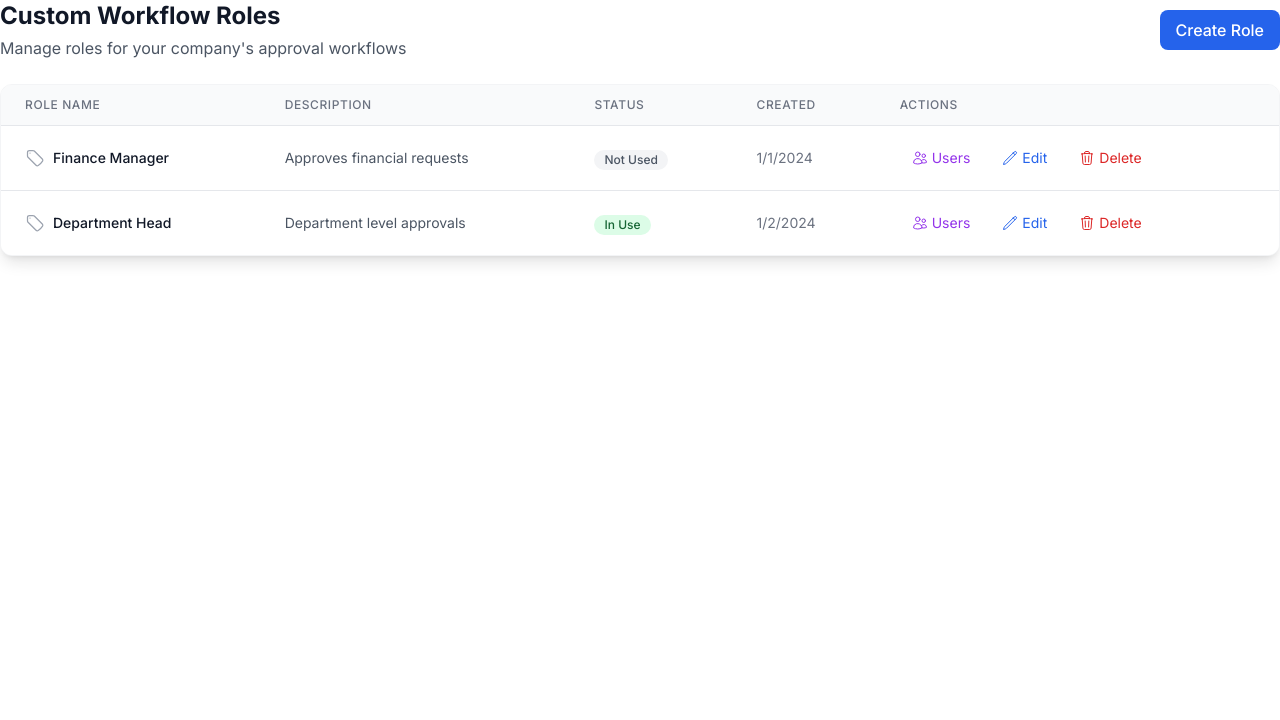
RoleManagement - Role Deletion with Protection › Confirmation Dialog › should close dialog when Cancel is clicked
Expected: the text "Finance Manager" is shown, [53,148,169,168]
Click the button "Delete" in the row of "Finance Manager" at (1110, 158), box [1067,142,1154,174]
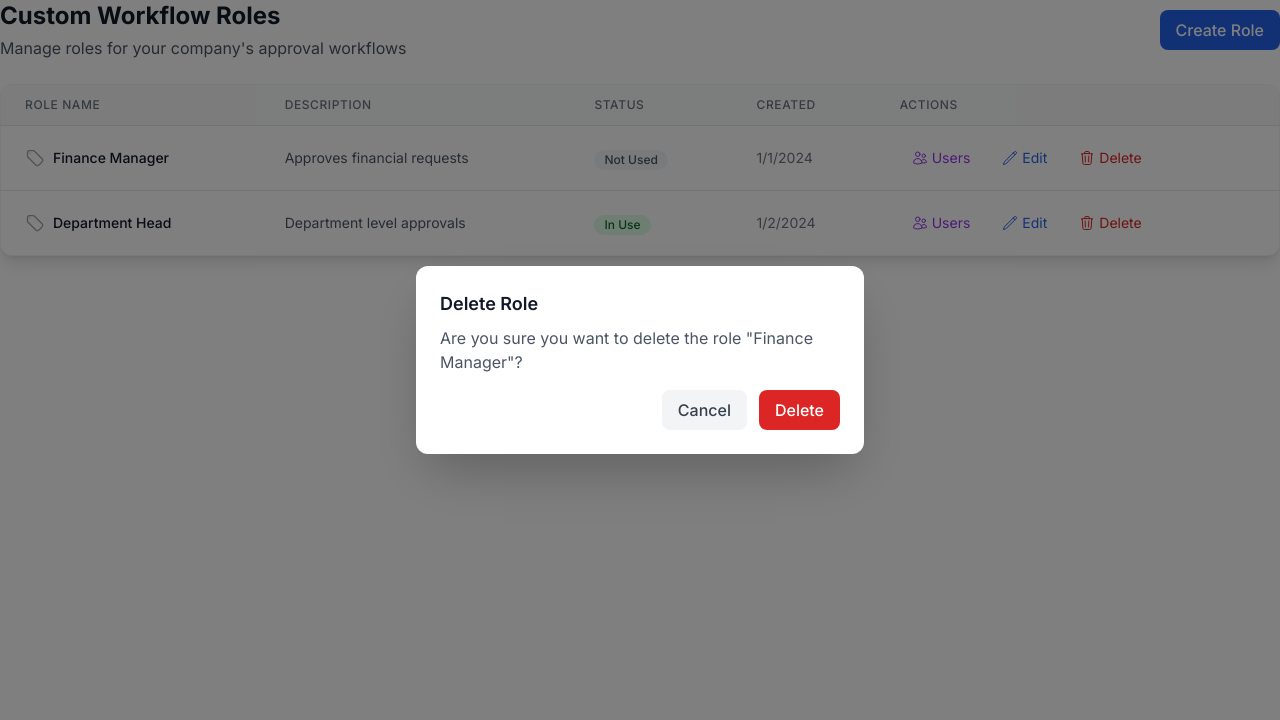
Now the heading "Delete Role" is shown, box [440,293,538,314]
Click the button "Cancel" at (704, 410), box [662,390,747,430]
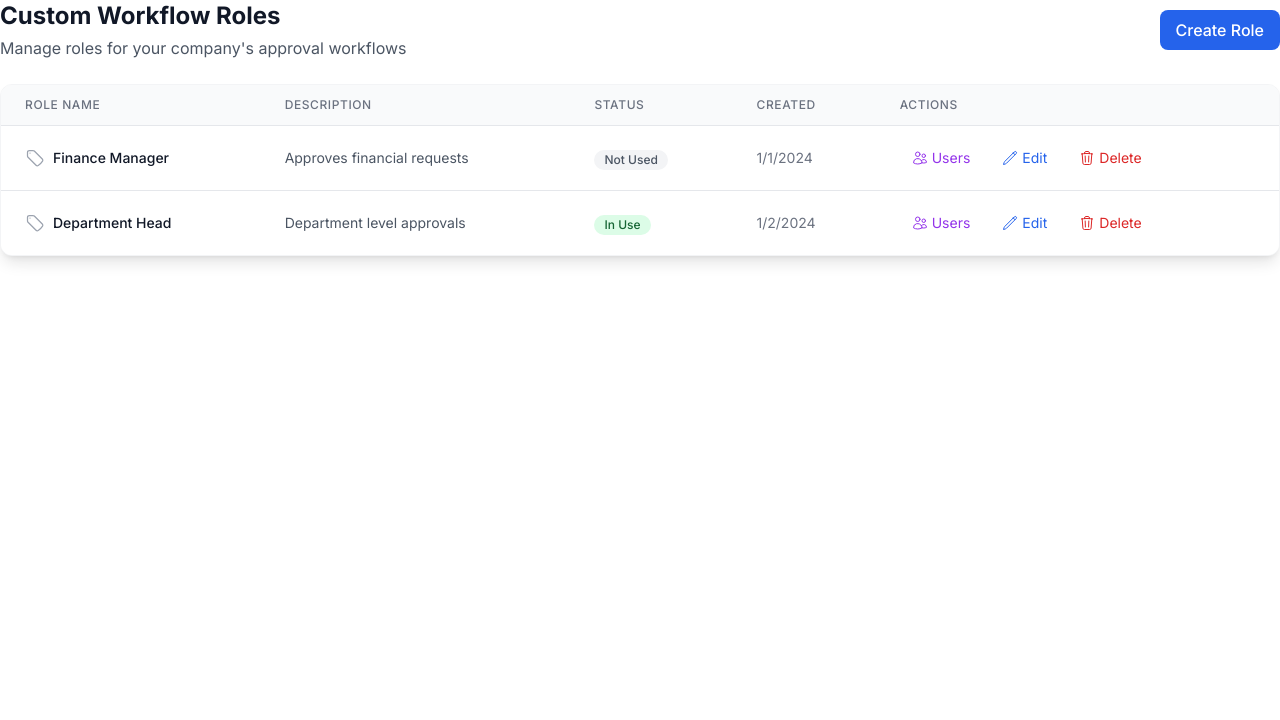
Now the heading "Delete Role" is gone
